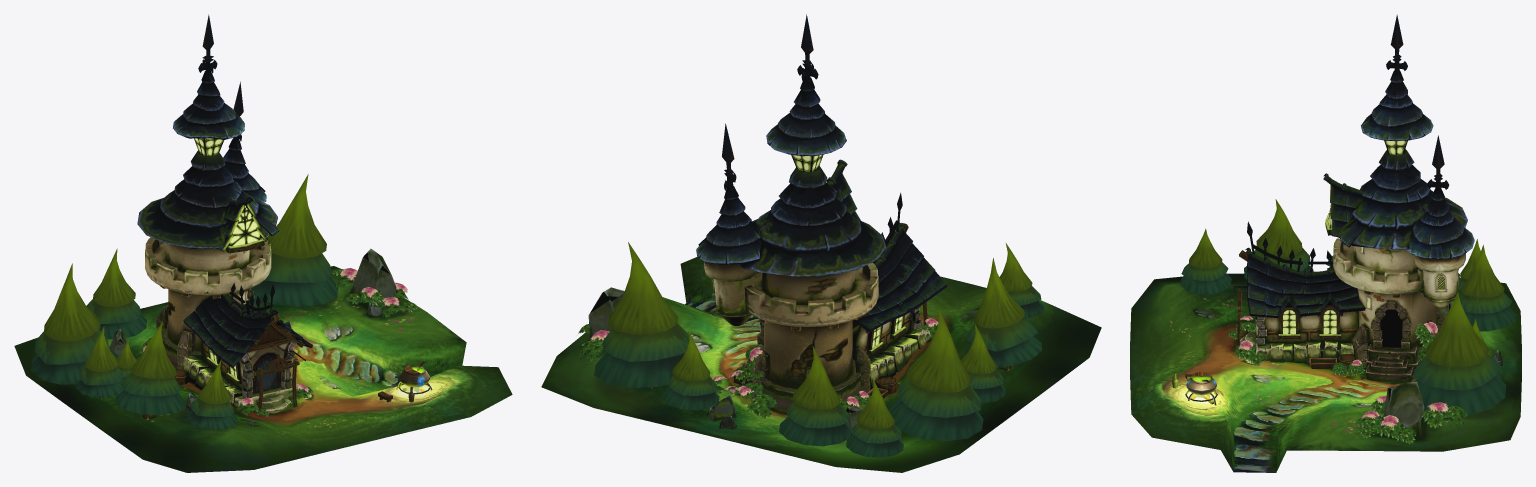
Rendered from house_lowpoly.glb.
The picture shows the model from 3 angles, left to right: view 1: azimuth 30°, elevation 25°; view 2: azimuth 150°, elevation 25°; view 3: azimuth 270°, elevation 25°; orthographic projection. The views are drawn at different scales.
Visible parts, largest first — view 1: Object_2, Object_4, Object_3, Object_5; view 2: Object_4, Object_2, Object_3, Object_5; view 3: Object_2, Object_4, Object_5, Object_3.
Boxes of the visible parts, x1,y1,x2,y2 form: Object_2: [14, 266, 512, 472]; Object_4: [135, 14, 432, 416]; Object_3: [31, 138, 425, 429]; Object_5: [145, 174, 338, 350]; Object_4: [578, 14, 969, 429]; Object_2: [541, 257, 1101, 472]; Object_3: [588, 154, 1044, 457]; Object_5: [594, 242, 878, 410]; Object_2: [1130, 273, 1521, 472]; Object_4: [1172, 14, 1502, 443]; Object_5: [1333, 203, 1506, 415]; Object_3: [1180, 140, 1516, 439].
Bounding box in the file's own units: 21.42 × 20.52 × 19.91.
3 materials, 3 textured.
